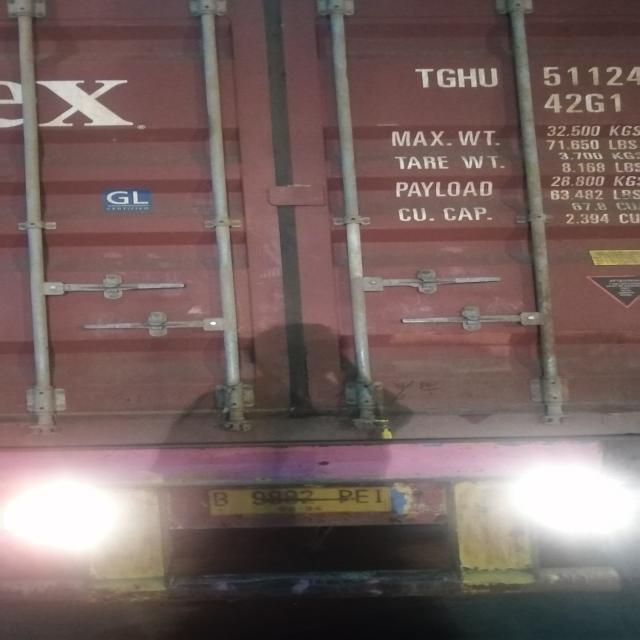seal: (380, 418, 393, 439)
